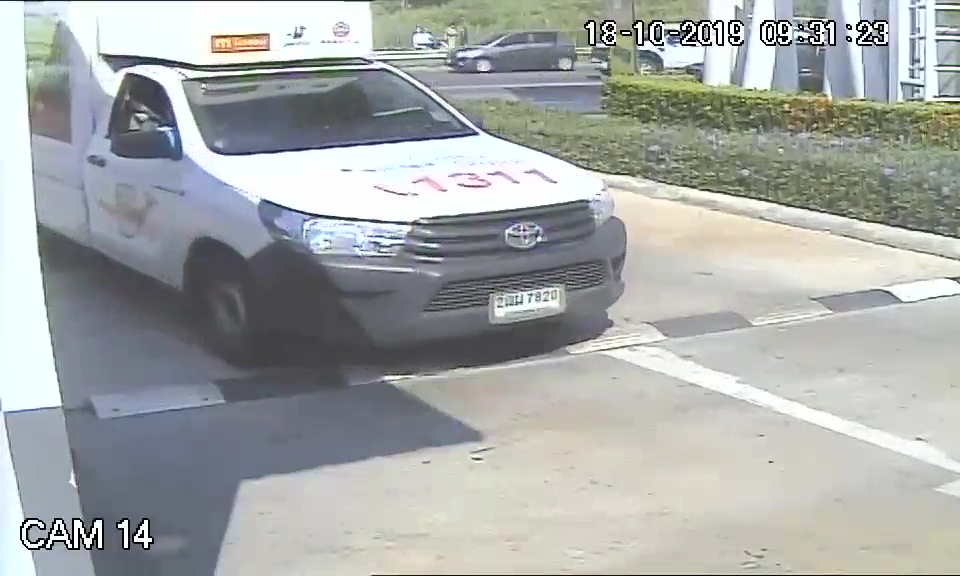pickup: (33, 14, 626, 354)
